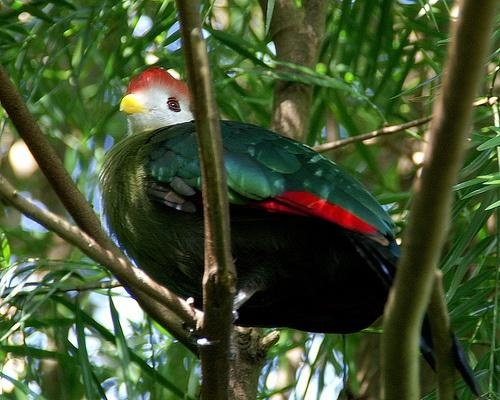bird: (100, 67, 487, 400)
